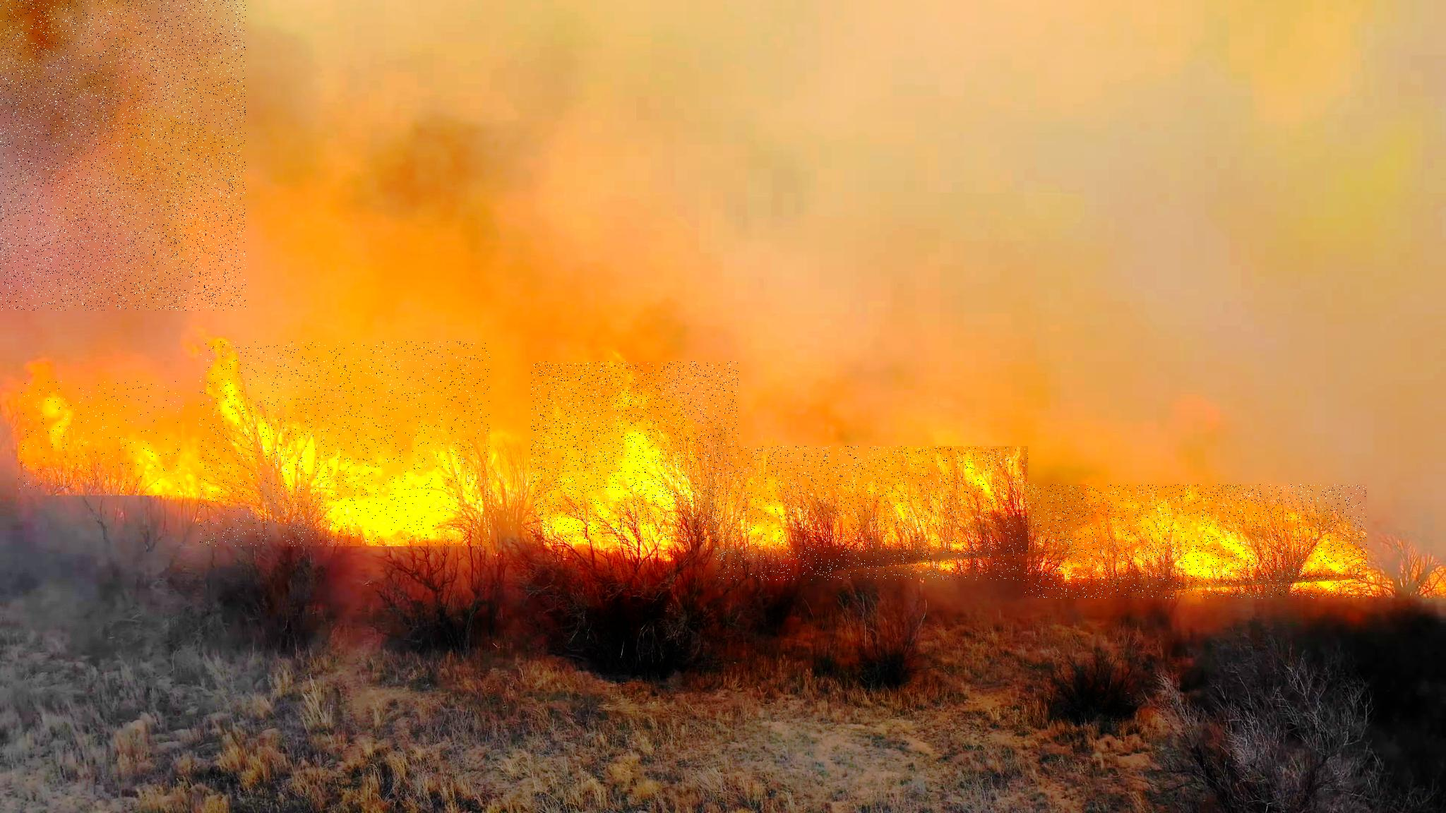fire: (199, 342, 490, 546), (716, 446, 1028, 580), (1024, 484, 1367, 598), (531, 361, 738, 542), (18, 381, 184, 495)
smoke: (0, 0, 246, 311)
